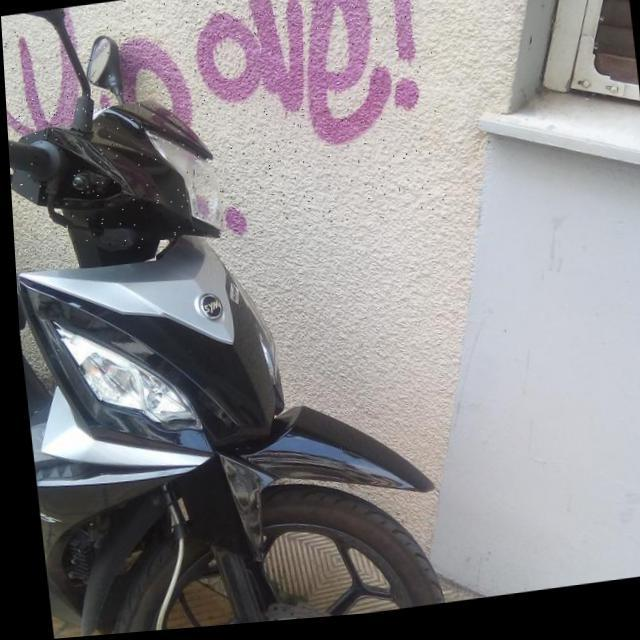-: (0, 0, 447, 268)
